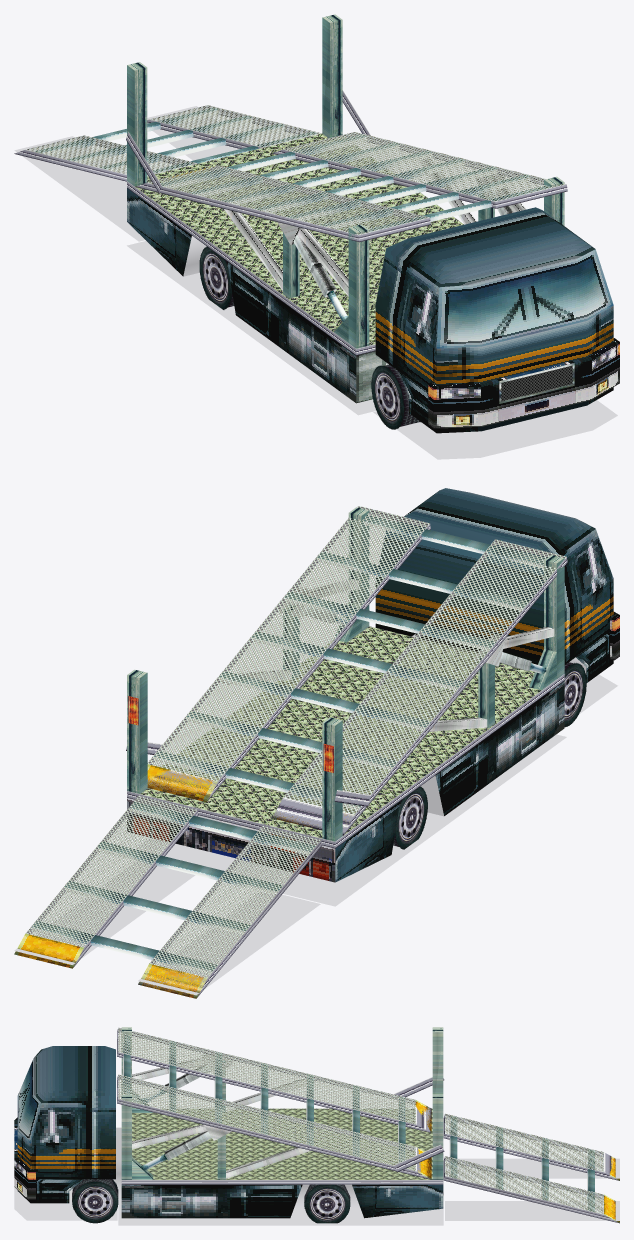
3 views of the same model, one above another, from view 1: azimuth 30°, elevation 25°; view 2: azimuth 150°, elevation 25°; view 3: azimuth 270°, elevation 25° (orthographic). The views are drawn at different scales.
Parts seen in each view (by area): view 1: model; view 2: model; view 3: model.
Boxes of the visible parts, x1,y1,x2,y2 form: model: (14, 14, 619, 459); model: (14, 488, 619, 998); model: (14, 1027, 619, 1225).
Size of the model in its own units: 32.1 by 27.01 by 115.
21 materials, 20 textured.
